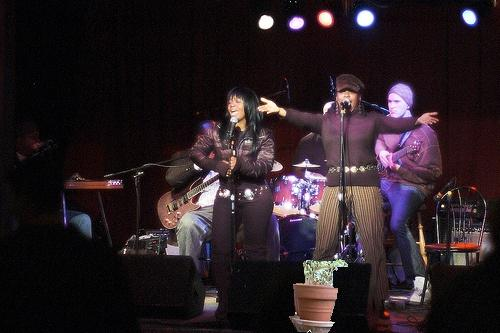tampered: (290, 260, 348, 333)
